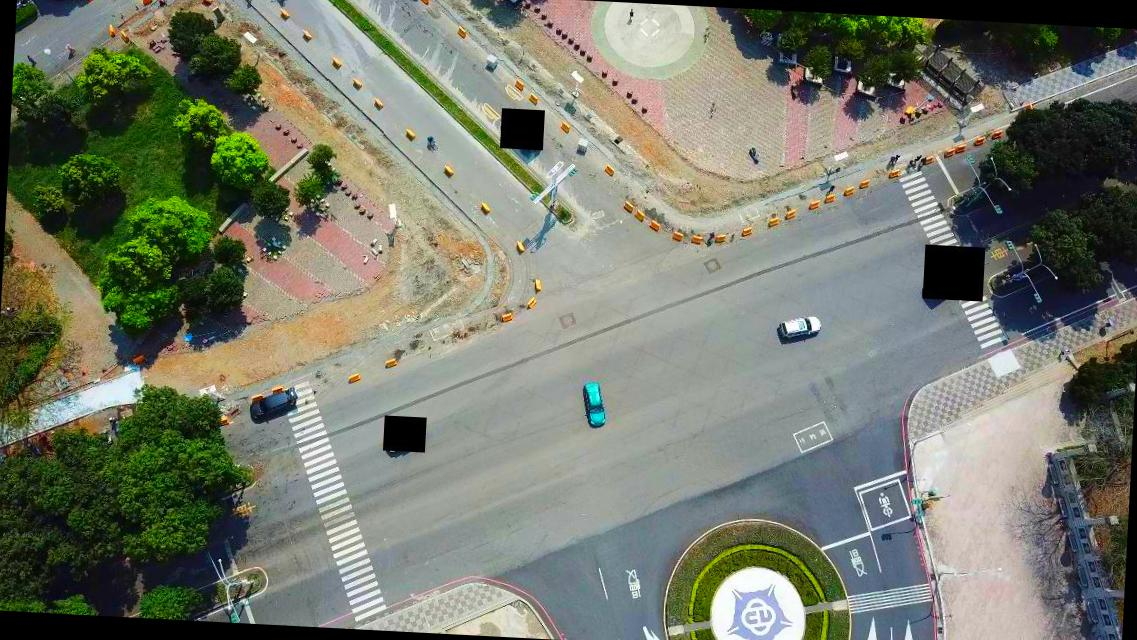vehicle: (247, 386, 296, 419), (580, 382, 608, 428), (776, 313, 820, 341)
